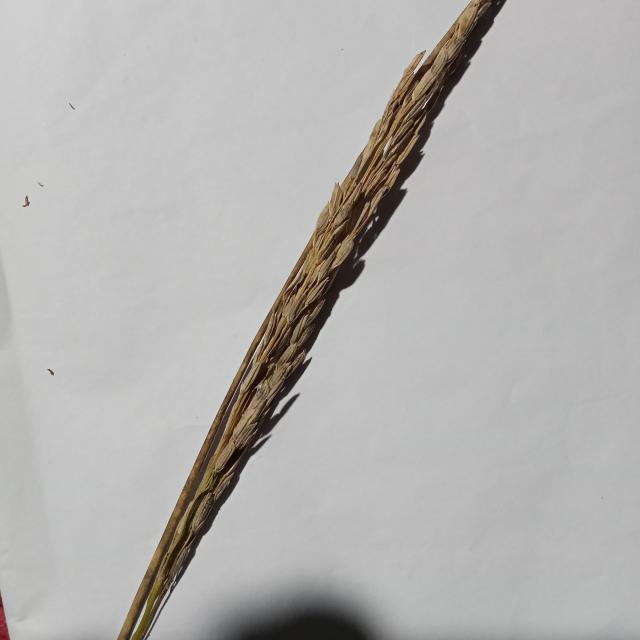Neck_Blast: (118, 0, 506, 640)
